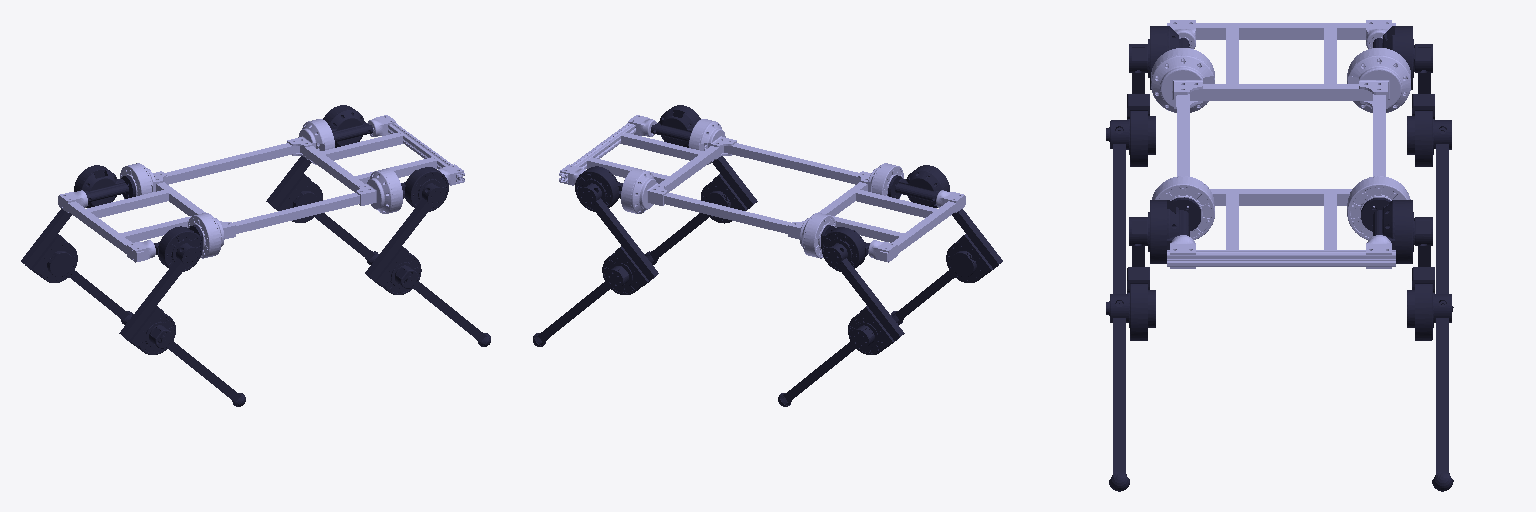
The robot description file, URDF, robot "bones":
<?xml version="1.0" ?>
<!-- =================================================================================== -->
<!-- |    This document was autogenerated by xacro from bones.urdf.xacro               | -->
<!-- |    EDITING THIS FILE BY HAND IS NOT RECOMMENDED                                 | -->
<!-- =================================================================================== -->
<robot name="bones">
  <!-- ros control plugin -->
  <gazebo>
    <plugin filename="libgazebo_ros_control.so" name="gazebo_ros_control">
      <robotNamespace>/ruff</robotNamespace>
      <robotSimType>gazebo_ros_control/DefaultRobotHWSim</robotSimType>
    </plugin>
  </gazebo>
  <!-- adding imu sensor to the base link -->
  <!--IMU : joint , link , sensor  -->

  <link name="base_link">
    <inertial>
      <origin rpy="0 0 0" xyz="0 0 -0.02"/>
      <mass value="2.49007846050021"/>
      <inertia ixx="0.00489492059233199" ixy="-1.59495229293445E-11" ixz="-2.61866110672266E-14" iyy="0.00625744875770968" iyz="7.8598187747419E-15" izz="0.00969112831967179"/>
    </inertial>
    <visual>
      <origin rpy="0 0 0" xyz="0 0 0"/>
      <geometry>
        <mesh filename="../meshes/base_link.stl"/>
      </geometry>
      <material name="">
        <color rgba="0.7 0.7 0.9 1"/>
      </material>
    </visual>
    <collision>
      <origin rpy="0 0 0" xyz="0 0 0"/>
      <geometry>
        <mesh filename="../meshes/base_link.stl"/>
      </geometry>
    </collision>
  </link>
  <link name="FL1">
    <inertial>
      <origin rpy="0 0 0" xyz="0.05 0.02 0"/>
      <mass value="0.35871"/>
      <inertia ixx="0.0003145" ixy="-1.6766E-06" ixz="-9.9068E-06" iyy="0.00044328" iyz="-2.576E-06" izz="0.00020521"/>
    </inertial>
    <visual>
      <origin rpy="0.0 0.0 0" xyz="0 0 0"/>
      <geometry>
        <mesh filename="../meshes/shoulder.stl"/>
      </geometry>
      <material name="">
        <color rgba="0.2 0.2 0.3 1"/>
      </material>
    </visual>
    <collision>
      <origin rpy="0.0 0.0 0" xyz="0 0 0"/>
      <geometry>
        <mesh filename="../meshes/shoulder.stl"/>
      </geometry>
    </collision>
  </link>
  <joint name="FL1_" type="revolute">
    <origin rpy="0 0 0" xyz="0.2498 0.1502 -0.0101"/>
    <parent link="base_link"/>
    <child link="FL1"/>
    <axis xyz="1 0 0"/>
    <limit
      lower="-0.52333"
      upper="0.52333"
      effort="200"
      velocity="10" />
  </joint>
  <link name="FL2">
    <inertial>
      <origin rpy="0 0 0" xyz="-0.26 0 -0.05"/>
      <mass value="0.421019079143915"/>
      <inertia ixx="0.000307852923020911" ixy="3.19242906120105E-06" ixz="-6.61267552894505E-06" iyy="0.000852068112953311" iyz="2.25635506155653E-06" izz="0.00065120696734265"/>
    </inertial>
    <visual>
      <origin rpy="0 0 0" xyz="0 0 0"/>
      <geometry>
        <mesh filename="../meshes/femur_left.stl"/>
      </geometry>
      <material name="">
        <color rgba="0.2 0.2 0.3 1"/>
      </material>
    </visual>
    <collision>
      <origin rpy="0 0 0" xyz="0 0 0"/>
      <geometry>
        <mesh filename="../meshes/femur_left.stl"/>
      </geometry>
    </collision>
  </link>
  <joint name="FL2_" type="revolute">
    <origin rpy="0 -0.7853981633974483 0" xyz="0.064 0.068 0.0"/>
    <parent link="FL1"/>
    <child link="FL2"/>
    <axis xyz="0 1 0"/>
    <limit
      lower="-0.52333"
      upper="0.52333"
      effort="200"
      velocity="10" />
  </joint>
  <link name="FL3">
    <inertial>
      <origin rpy="0 0 0" xyz="0.15 0 0"/>
      <mass value="0.155935206674882"/>
      <inertia ixx="0.000710580255126011" ixy="-4.6955016006765E-08" ixz="5.54725888406585E-08" iyy="0.0011552209842016" iyz="5.86784342700648E-08" izz="0.000459413413981537"/>
    </inertial>
    <visual>
      <origin rpy="0 0 0" xyz="0 0 0"/>
      <geometry>
        <mesh filename="../meshes/tibia.stl"/>
      </geometry>
      <material name="">
        <color rgba="0.2 0.2 0.3 1"/>
      </material>
    </visual>
    <collision>
      <origin rpy="0 0 0" xyz="0 0 0"/>
      <geometry>
        <mesh filename="../meshes/tibia.stl"/>
      </geometry>
    </collision>
  </link>
  <joint name="FL3_" type="revolute">
    <origin rpy="0 1.5707963267948966 0" xyz="-0.1805 0.029 -0.059"/>
    <parent link="FL2"/>
    <child link="FL3"/>
    <axis xyz="0 1 0"/>
    <limit
      lower="-0.52333"
      upper="0.52333"
      effort="200"
      velocity="10" />
  </joint>
  <link name="FL3_f">
    <inertial>
      <origin rpy="0 0 0" xyz="0 0 0"/>
      <mass value="0.002"/>
      <inertia ixx="0.00001" ixy="0" ixz="0" iyy="0.00001" iyz="0" izz="0.00001"/>
    </inertial>
    <visual>
      <origin rpy="0 0 0" xyz="0 0 0"/>
      <geometry>
        <sphere radius="0.005"/>
      </geometry>
      <material name="">
        <color rgba="0.2 0.2 0.3 1"/>
      </material>
    </visual>
    <collision>
      <origin rpy="0 0 0" xyz="0 0 0"/>
      <geometry>
        <sphere radius="0.005"/>
      </geometry>
    </collision>
  </link>
  <joint name="FL3_f_" type="fixed">
    <origin rpy="0 -1.5707963267948966 0" xyz="0.29 0 0"/>
    <parent link="FL3"/>
    <child link="FL3_f"/>
  </joint>
  <link name="FR1">
    <inertial>
      <origin rpy="0 0 0" xyz="0.05 0.02 0"/>
      <mass value="0.35871"/>
      <inertia ixx="0.0003145" ixy="-1.6766E-06" ixz="-9.9068E-06" iyy="0.00044328" iyz="-2.576E-06" izz="0.00020521"/>
    </inertial>
    <visual>
      <origin rpy="-3.141592653589793 0.0 0" xyz="0 0 0"/>
      <geometry>
        <mesh filename="../meshes/shoulder.stl"/>
      </geometry>
      <material name="">
        <color rgba="0.2 0.2 0.3 1"/>
      </material>
    </visual>
    <collision>
      <origin rpy="-3.141592653589793 0.0 0" xyz="0 0 0"/>
      <geometry>
        <mesh filename="../meshes/shoulder.stl"/>
      </geometry>
    </collision>
  </link>
  <joint name="FR1_" type="revolute">
    <origin rpy="0 0 0" xyz="0.2498 -0.1502 -0.0101"/>
    <parent link="base_link"/>
    <child link="FR1"/>
    <axis xyz="1 0 0"/>
    <limit
      lower="-0.52333"
      upper="0.52333"
      effort="200"
      velocity="10" />
  </joint>
  <link name="FR2">
    <inertial>
      <origin rpy="0 0 0" xyz="-0.26 0 -0.05"/>
      <mass value="0.421019079143915"/>
      <inertia ixx="0.000307852923020911" ixy="3.19242906120105E-06" ixz="-6.61267552894505E-06" iyy="0.000852068112953311" iyz="2.25635506155653E-06" izz="0.00065120696734265"/>
    </inertial>
    <visual>
      <origin rpy="0 0 0" xyz="0 0 0"/>
      <geometry>
        <mesh filename="../meshes/femur_right.stl"/>
      </geometry>
      <material name="">
        <color rgba="0.2 0.2 0.3 1"/>
      </material>
    </visual>
    <collision>
      <origin rpy="0 0 0" xyz="0 0 0"/>
      <geometry>
        <mesh filename="../meshes/femur_right.stl"/>
      </geometry>
    </collision>
  </link>
  <joint name="FR2_" type="revolute">
    <origin rpy="0 -0.7853981633974483 0" xyz="0.064 -0.068 0.0"/>
    <parent link="FR1"/>
    <child link="FR2"/>
    <axis xyz="0 1 0"/>
    <limit
      lower="-0.52333"
      upper="0.52333"
      effort="200"
      velocity="10" />
  </joint>
  <link name="FR3">
    <inertial>
      <origin rpy="0 0 0" xyz="0.15 0 0"/>
      <mass value="0.155935206674882"/>
      <inertia ixx="0.000710580255126011" ixy="-4.6955016006765E-08" ixz="5.54725888406585E-08" iyy="0.0011552209842016" iyz="5.86784342700648E-08" izz="0.000459413413981537"/>
    </inertial>
    <visual>
      <origin rpy="0 0 0" xyz="0 0 0"/>
      <geometry>
        <mesh filename="../meshes/tibia.stl"/>
      </geometry>
      <material name="">
        <color rgba="0.2 0.2 0.3 1"/>
      </material>
    </visual>
    <collision>
      <origin rpy="0 0 0" xyz="0 0 0"/>
      <geometry>
        <mesh filename="../meshes/tibia.stl"/>
      </geometry>
    </collision>
  </link>
  <joint name="FR3_" type="revolute">
    <origin rpy="0 1.5707963267948966 0" xyz="-0.1805 -0.029 -0.059"/>
    <parent link="FR2"/>
    <child link="FR3"/>
    <axis xyz="0 1 0"/>
    <limit
      lower="-0.52333"
      upper="0.52333"
      effort="200"
      velocity="10" />
  </joint>
  <link name="FR3_f">
    <inertial>
      <origin rpy="0 0 0" xyz="0 0 0"/>
      <mass value="0.002"/>
      <inertia ixx="0.00001" ixy="0" ixz="0" iyy="0.00001" iyz="0" izz="0.00001"/>
    </inertial>
    <visual>
      <origin rpy="0 0 0" xyz="0 0 0"/>
      <geometry>
        <sphere radius="0.005"/>
      </geometry>
      <material name="">
        <color rgba="0.2 0.2 0.3 1"/>
      </material>
    </visual>
    <collision>
      <origin rpy="0 0 0" xyz="0 0 0"/>
      <geometry>
        <sphere radius="0.005"/>
      </geometry>
    </collision>
  </link>
  <joint name="FR3_f_" type="fixed">
    <origin rpy="0 -1.5707963267948966 0" xyz="0.29 0 0"/>
    <parent link="FR3"/>
    <child link="FR3_f"/>
  </joint>
  <link name="RL1">
    <inertial>
      <origin rpy="0 0 0" xyz="0.05 0.02 0"/>
      <mass value="0.35871"/>
      <inertia ixx="0.0003145" ixy="-1.6766E-06" ixz="-9.9068E-06" iyy="0.00044328" iyz="-2.576E-06" izz="0.00020521"/>
    </inertial>
    <visual>
      <origin rpy="0.0 -3.141592653589793 0" xyz="0 0 0"/>
      <geometry>
        <mesh filename="../meshes/shoulder.stl"/>
      </geometry>
      <material name="">
        <color rgba="0.2 0.2 0.3 1"/>
      </material>
    </visual>
    <collision>
      <origin rpy="0.0 -3.141592653589793 0" xyz="0 0 0"/>
      <geometry>
        <mesh filename="../meshes/shoulder.stl"/>
      </geometry>
    </collision>
  </link>
  <joint name="RL1_" type="revolute">
    <origin rpy="0 0 0" xyz="-0.2498 0.1502 -0.0101"/>
    <parent link="base_link"/>
    <child link="RL1"/>
    <axis xyz="1 0 0"/>
    <limit
      lower="-0.52333"
      upper="0.52333"
      effort="200"
      velocity="10" />
  </joint>
  <link name="RL2">
    <inertial>
      <origin rpy="0 0 0" xyz="-0.26 0 -0.05"/>
      <mass value="0.421019079143915"/>
      <inertia ixx="0.000307852923020911" ixy="3.19242906120105E-06" ixz="-6.61267552894505E-06" iyy="0.000852068112953311" iyz="2.25635506155653E-06" izz="0.00065120696734265"/>
    </inertial>
    <visual>
      <origin rpy="0 0 0" xyz="0 0 0"/>
      <geometry>
        <mesh filename="../meshes/femur_left.stl"/>
      </geometry>
      <material name="">
        <color rgba="0.2 0.2 0.3 1"/>
      </material>
    </visual>
    <collision>
      <origin rpy="0 0 0" xyz="0 0 0"/>
      <geometry>
        <mesh filename="../meshes/femur_left.stl"/>
      </geometry>
    </collision>
  </link>
  <joint name="RL2_" type="revolute">
    <origin rpy="0 -0.7853981633974483 0" xyz="-0.064 0.068 0.0"/>
    <parent link="RL1"/>
    <child link="RL2"/>
    <axis xyz="0 1 0"/>
    <limit
      lower="-0.52333"
      upper="0.52333"
      effort="200"
      velocity="10" />
  </joint>
  <link name="RL3">
    <inertial>
      <origin rpy="0 0 0" xyz="0.15 0 0"/>
      <mass value="0.155935206674882"/>
      <inertia ixx="0.000710580255126011" ixy="-4.6955016006765E-08" ixz="5.54725888406585E-08" iyy="0.0011552209842016" iyz="5.86784342700648E-08" izz="0.000459413413981537"/>
    </inertial>
    <visual>
      <origin rpy="0 0 0" xyz="0 0 0"/>
      <geometry>
        <mesh filename="../meshes/tibia.stl"/>
      </geometry>
      <material name="">
        <color rgba="0.2 0.2 0.3 1"/>
      </material>
    </visual>
    <collision>
      <origin rpy="0 0 0" xyz="0 0 0"/>
      <geometry>
        <mesh filename="../meshes/tibia.stl"/>
      </geometry>
    </collision>
  </link>
  <joint name="RL3_" type="revolute">
    <origin rpy="0 1.5707963267948966 0" xyz="-0.1805 0.029 -0.059"/>
    <parent link="RL2"/>
    <child link="RL3"/>
    <axis xyz="0 1 0"/>
    <limit
      lower="-0.52333"
      upper="0.52333"
      effort="200"
      velocity="10" />
  </joint>
  <link name="RL3_f">
    <inertial>
      <origin rpy="0 0 0" xyz="0 0 0"/>
      <mass value="0.002"/>
      <inertia ixx="0.00001" ixy="0" ixz="0" iyy="0.00001" iyz="0" izz="0.00001"/>
    </inertial>
    <visual>
      <origin rpy="0 0 0" xyz="0 0 0"/>
      <geometry>
        <sphere radius="0.005"/>
      </geometry>
      <material name="">
        <color rgba="0.2 0.2 0.3 1"/>
      </material>
    </visual>
    <collision>
      <origin rpy="0 0 0" xyz="0 0 0"/>
      <geometry>
        <sphere radius="0.005"/>
      </geometry>
    </collision>
  </link>
  <joint name="RL3_f_" type="fixed">
    <origin rpy="0 -1.5707963267948966 0" xyz="0.29 0 0"/>
    <parent link="RL3"/>
    <child link="RL3_f"/>
  </joint>
  <link name="RR1">
    <inertial>
      <origin rpy="0 0 0" xyz="0.05 0.02 0"/>
      <mass value="0.35871"/>
      <inertia ixx="0.0003145" ixy="-1.6766E-06" ixz="-9.9068E-06" iyy="0.00044328" iyz="-2.576E-06" izz="0.00020521"/>
    </inertial>
    <visual>
      <origin rpy="-3.141592653589793 -3.141592653589793 0" xyz="0 0 0"/>
      <geometry>
        <mesh filename="../meshes/shoulder.stl"/>
      </geometry>
      <material name="">
        <color rgba="0.2 0.2 0.3 1"/>
      </material>
    </visual>
    <collision>
      <origin rpy="-3.141592653589793 -3.141592653589793 0" xyz="0 0 0"/>
      <geometry>
        <mesh filename="../meshes/shoulder.stl"/>
      </geometry>
    </collision>
  </link>
  <joint name="RR1_" type="revolute">
    <origin rpy="0 0 0" xyz="-0.2498 -0.1502 -0.0101"/>
    <parent link="base_link"/>
    <child link="RR1"/>
    <axis xyz="1 0 0"/>
    <limit
      lower="-0.52333"
      upper="0.52333"
      effort="200"
      velocity="10" />
  </joint>
  <link name="RR2">
    <inertial>
      <origin rpy="0 0 0" xyz="-0.26 0 -0.05"/>
      <mass value="0.421019079143915"/>
      <inertia ixx="0.000307852923020911" ixy="3.19242906120105E-06" ixz="-6.61267552894505E-06" iyy="0.000852068112953311" iyz="2.25635506155653E-06" izz="0.00065120696734265"/>
    </inertial>
    <visual>
      <origin rpy="0 0 0" xyz="0 0 0"/>
      <geometry>
        <mesh filename="../meshes/femur_right.stl"/>
      </geometry>
      <material name="">
        <color rgba="0.2 0.2 0.3 1"/>
      </material>
    </visual>
    <collision>
      <origin rpy="0 0 0" xyz="0 0 0"/>
      <geometry>
        <mesh filename="../meshes/femur_right.stl"/>
      </geometry>
    </collision>
  </link>
  <joint name="RR2_" type="revolute">
    <origin rpy="0 -0.7853981633974483 0" xyz="-0.064 -0.068 0.0"/>
    <parent link="RR1"/>
    <child link="RR2"/>
    <axis xyz="0 1 0"/>
    <limit
      lower="-0.52333"
      upper="0.52333"
      effort="200"
      velocity="10" />
  </joint>
  <link name="RR3">
    <inertial>
      <origin rpy="0 0 0" xyz="0.15 0 0"/>
      <mass value="0.155935206674882"/>
      <inertia ixx="0.000710580255126011" ixy="-4.6955016006765E-08" ixz="5.54725888406585E-08" iyy="0.0011552209842016" iyz="5.86784342700648E-08" izz="0.000459413413981537"/>
    </inertial>
    <visual>
      <origin rpy="0 0 0" xyz="0 0 0"/>
      <geometry>
        <mesh filename="../meshes/tibia.stl"/>
      </geometry>
      <material name="">
        <color rgba="0.2 0.2 0.3 1"/>
      </material>
    </visual>
    <collision>
      <origin rpy="0 0 0" xyz="0 0 0"/>
      <geometry>
        <mesh filename="../meshes/tibia.stl"/>
      </geometry>
    </collision>
  </link>
  <joint name="RR3_" type="revolute">
    <origin rpy="0 1.5707963267948966 0" xyz="-0.1805 -0.029 -0.059"/>
    <parent link="RR2"/>
    <child link="RR3"/>
    <axis xyz="0 1 0"/>
    <limit
      lower="-0.52333"
      upper="0.52333"
      effort="200"
      velocity="10" />
  </joint>
  <link name="RR3_f">
    <inertial>
      <origin rpy="0 0 0" xyz="0 0 0"/>
      <mass value="0.002"/>
      <inertia ixx="0.00001" ixy="0" ixz="0" iyy="0.00001" iyz="0" izz="0.00001"/>
    </inertial>
    <visual>
      <origin rpy="0 0 0" xyz="0 0 0"/>
      <geometry>
        <sphere radius="0.005"/>
      </geometry>
      <material name="">
        <color rgba="0.2 0.2 0.3 1"/>
      </material>
    </visual>
    <collision>
      <origin rpy="0 0 0" xyz="0 0 0"/>
      <geometry>
        <sphere radius="0.005"/>
      </geometry>
    </collision>
  </link>
  <joint name="RR3_f_" type="fixed">
    <origin rpy="0 -1.5707963267948966 0" xyz="0.29 0 0"/>
    <parent link="RR3"/>
    <child link="RR3_f"/>
  </joint>
  <!-- Rear right  -->
  <!-- Transmission for the joints -->
  <transmission name="FL1_trans">
    <type>transmission_interface/SimpleTransmission</type>
    <actuator name="FL1_motor">
      <mechanicalReduction>1</mechanicalReduction>
      <hardwareInterface>EffortJointInterface</hardwareInterface>
    </actuator>
    <joint name="FL1_">
      <hardwareInterface>hardware_interface/EffortJointInterface</hardwareInterface>
    </joint>
  </transmission>
  <transmission name="FL2_trans">
    <type>transmission_interface/SimpleTransmission</type>
    <actuator name="FL2_motor">
      <mechanicalReduction>1</mechanicalReduction>
    </actuator>
    <joint name="FL2_">
      <hardwareInterface>hardware_interface/EffortJointInterface</hardwareInterface>
    </joint>
  </transmission>
  <transmission name="FL3_trans">
    <type>transmission_interface/SimpleTransmission</type>
    <actuator name="FL3_motor">
      <mechanicalReduction>1</mechanicalReduction>
    </actuator>
    <joint name="FL3_">
      <hardwareInterface>hardware_interface/EffortJointInterface</hardwareInterface>
    </joint>
  </transmission>
  <transmission name="FR1_trans">
    <type>transmission_interface/SimpleTransmission</type>
    <actuator name="FR1_motor">
      <mechanicalReduction>1</mechanicalReduction>
    </actuator>
    <joint name="FR1_">
      <hardwareInterface>hardware_interface/EffortJointInterface</hardwareInterface>
    </joint>
  </transmission>
  <transmission name="FR2_trans">
    <type>transmission_interface/SimpleTransmission</type>
    <actuator name="FR2_motor">
      <mechanicalReduction>1</mechanicalReduction>
    </actuator>
    <joint name="FR2_">
      <hardwareInterface>hardware_interface/EffortJointInterface</hardwareInterface>
    </joint>
  </transmission>
  <transmission name="FR3_trans">
    <type>transmission_interface/SimpleTransmission</type>
    <actuator name="FR3_motor">
      <mechanicalReduction>1</mechanicalReduction>
    </actuator>
    <joint name="FR3_">
      <hardwareInterface>hardware_interface/EffortJointInterface</hardwareInterface>
    </joint>
  </transmission>
  <transmission name="RL1_trans">
    <type>transmission_interface/SimpleTransmission</type>
    <actuator name="RL1_motor">
      <mechanicalReduction>1</mechanicalReduction>
    </actuator>
    <joint name="RL1_">
      <hardwareInterface>hardware_interface/EffortJointInterface</hardwareInterface>
    </joint>
  </transmission>
  <transmission name="RL2_trans">
    <type>transmission_interface/SimpleTransmission</type>
    <actuator name="RL2_motor">
      <mechanicalReduction>1</mechanicalReduction>
    </actuator>
    <joint name="RL2_">
      <hardwareInterface>hardware_interface/EffortJointInterface</hardwareInterface>
    </joint>
  </transmission>
  <transmission name="RL3_trans">
    <type>transmission_interface/SimpleTransmission</type>
    <actuator name="RL3_motor">
      <mechanicalReduction>1</mechanicalReduction>
    </actuator>
    <joint name="RL3_">
      <hardwareInterface>hardware_interface/EffortJointInterface</hardwareInterface>
    </joint>
  </transmission>
  <transmission name="RR1_trans">
    <type>transmission_interface/SimpleTransmission</type>
    <actuator name="RR1_motor">
      <mechanicalReduction>1</mechanicalReduction>
    </actuator>
    <joint name="RR1_">
      <hardwareInterface>hardware_interface/EffortJointInterface</hardwareInterface>
    </joint>
  </transmission>
  <transmission name="RR2_trans">
    <type>transmission_interface/SimpleTransmission</type>
    <actuator name="RR2_motor">
      <mechanicalReduction>1</mechanicalReduction>
    </actuator>
    <joint name="RR2_">
      <hardwareInterface>hardware_interface/EffortJointInterface</hardwareInterface>
    </joint>
  </transmission>
  <transmission name="RR3_trans">
    <type>transmission_interface/SimpleTransmission</type>
    <actuator name="RR3_motor">
      <mechanicalReduction>1</mechanicalReduction>
    </actuator>
    <joint name="RR3_">
      <hardwareInterface>hardware_interface/EffortJointInterface</hardwareInterface>
    </joint>
  </transmission>
</robot>

--- Render facts (derived) ---
3 views of the same robot in one strip: view 1: azimuth 30°, elevation 25°; view 2: azimuth 150°, elevation 25°; view 3: azimuth 270°, elevation 25° (orthographic).
Robot: bones — 17 links, 16 joints (12 revolute, 4 fixed); root link base_link; default pose: every joint at zero.
Links seen in each view (by area): view 1: base_link, RR2, FR2, RL2, FL2, RL1, RR3, FR3, FL1, RR1, FR1, RL3 (+1 smaller); view 2: base_link, FL2, RL2, RR2, FR2, RR1, RL3, FL3, FR1, RL1, FL1, RR3 (+1 smaller); view 3: base_link, FR3, FL3, FR2, RR2, RL2, FL2, RR3, RL3, FL1, FR1, RL1 (+1 smaller).
Boxes of the visible links, box(x1,y1,x2,y2) form: base_link: box(58, 115, 464, 262); RR2: box(119, 243, 199, 354); FR2: box(365, 183, 444, 294); RL2: box(21, 208, 77, 282); FL2: box(266, 156, 322, 222); RL1: box(74, 165, 135, 207); RR3: box(149, 325, 245, 406); FR3: box(395, 265, 490, 346); FL1: box(323, 105, 372, 147); RR1: box(154, 225, 202, 271); FR1: box(401, 167, 448, 211); RL3: box(69, 270, 133, 324); base_link: box(559, 115, 965, 262); FL2: box(578, 183, 658, 294); RL2: box(824, 243, 904, 354); RR2: box(946, 209, 1002, 282); FR2: box(701, 156, 757, 223); RR1: box(888, 165, 949, 207); RL3: box(778, 325, 874, 406); FL3: box(533, 266, 628, 346); FR1: box(651, 105, 700, 147); RL1: box(821, 225, 869, 271); FL1: box(575, 166, 622, 211); RR3: box(891, 270, 954, 324); base_link: box(1151, 20, 1410, 268); FR3: box(1106, 294, 1129, 491); FL3: box(1432, 294, 1453, 491); FR2: box(1127, 217, 1155, 340); RR2: box(1127, 44, 1155, 166); RL2: box(1407, 44, 1434, 166); FL2: box(1407, 217, 1434, 340); RR3: box(1106, 120, 1128, 293); RL3: box(1434, 120, 1453, 311); FL1: box(1361, 198, 1414, 263); FR1: box(1148, 197, 1200, 263); RL1: box(1373, 26, 1414, 89).
Size in the robot's own frame: 0.9268 by 0.5309 by 0.4335 metres.
Meshes: 5 distinct files referenced, 13 mesh visuals loaded (5 binary STL).